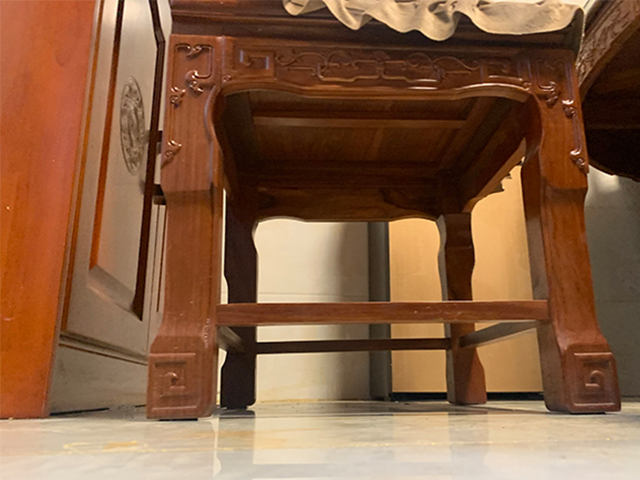stool: (145, 1, 623, 421)
